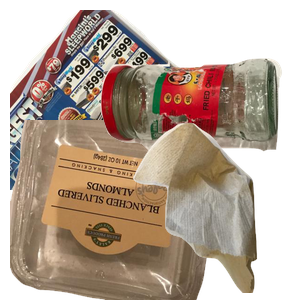glass: (98, 56, 300, 201)
paper: (10, 10, 240, 190)
plastic: (10, 120, 227, 300)
trash: (131, 120, 300, 300)
